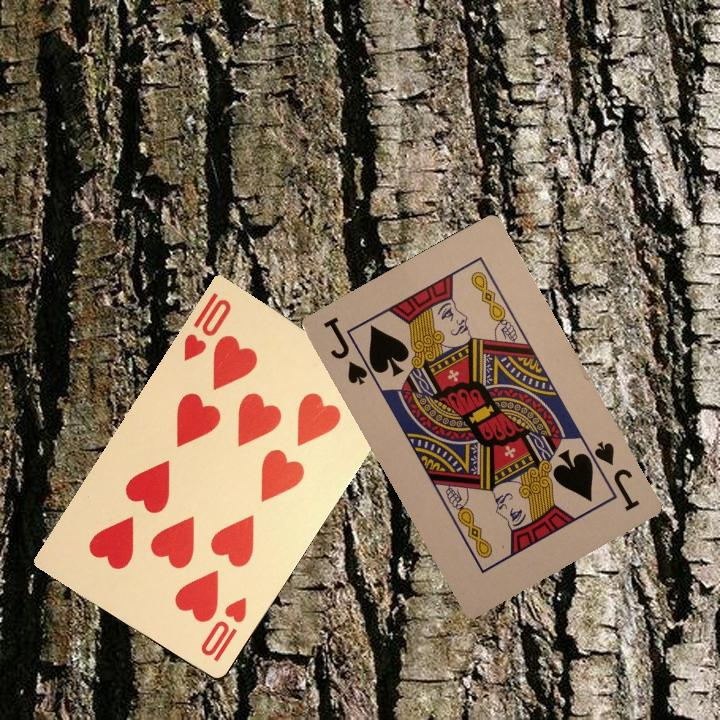10h: (179, 288, 234, 363), (196, 593, 250, 665)
Js: (317, 312, 379, 388), (583, 438, 642, 514)
